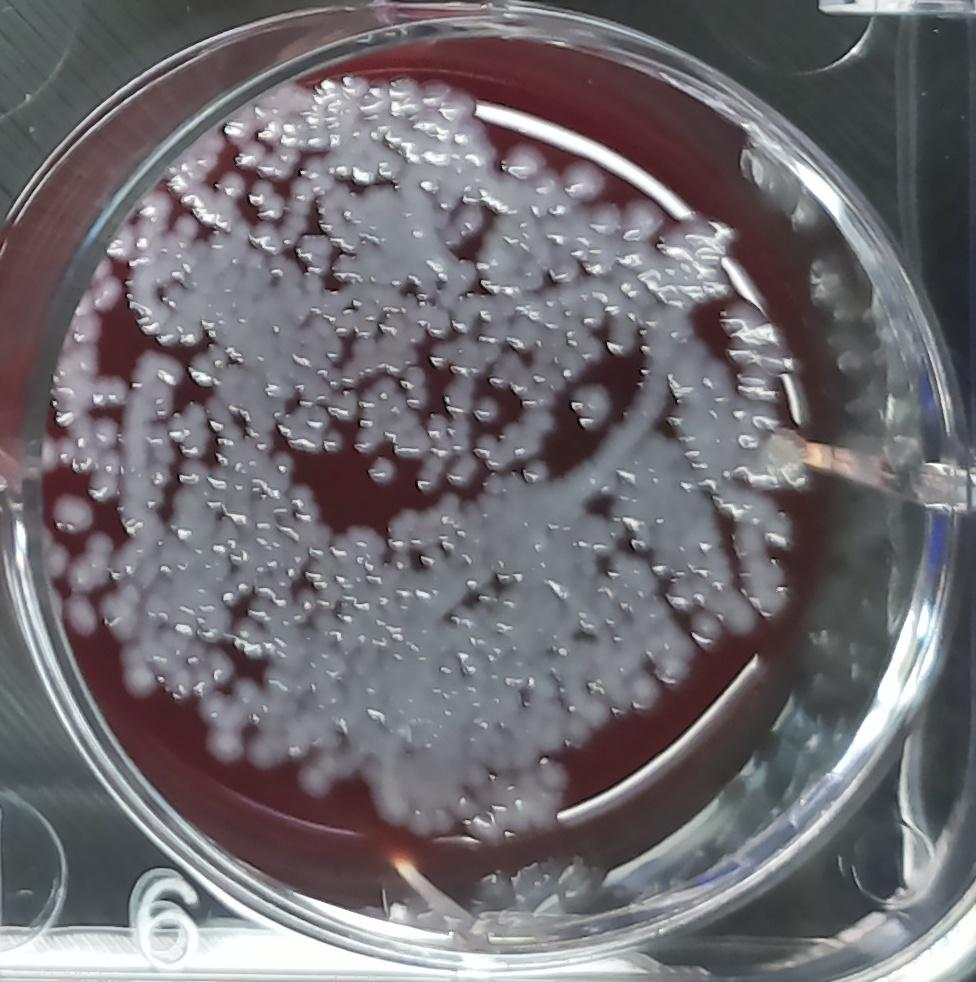smarcescens: (554, 147, 609, 201), (567, 378, 615, 434), (360, 452, 398, 491)
